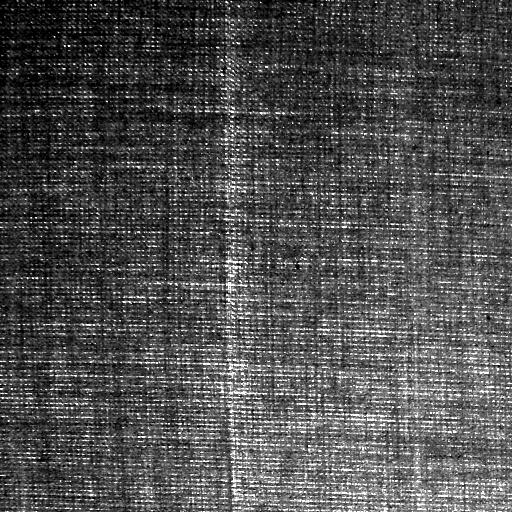fabric_missing_pick: (222, 6, 248, 504)
